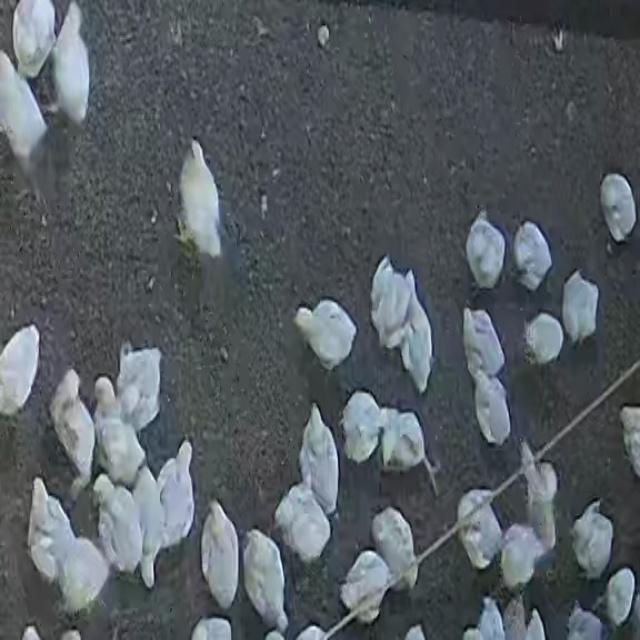chicken: (1, 51, 50, 204), (177, 136, 224, 258), (92, 473, 144, 579), (52, 4, 93, 126), (297, 294, 359, 371), (275, 484, 332, 564), (242, 527, 286, 629), (28, 477, 71, 581), (200, 501, 239, 613), (298, 406, 339, 512), (115, 342, 162, 434), (56, 369, 91, 490), (95, 406, 146, 489), (157, 442, 195, 552), (402, 265, 435, 389), (56, 538, 109, 615), (371, 507, 418, 592), (456, 488, 504, 571), (12, 1, 59, 84), (130, 462, 164, 576), (340, 549, 393, 622), (0, 320, 39, 417), (524, 450, 558, 546), (340, 389, 384, 463), (570, 501, 612, 578), (499, 523, 546, 591), (462, 306, 506, 378), (381, 408, 430, 472), (368, 263, 407, 342), (561, 270, 600, 348), (474, 371, 512, 448), (512, 223, 549, 289), (470, 218, 504, 284), (604, 175, 636, 244), (524, 313, 564, 367), (600, 568, 635, 628), (564, 602, 604, 640), (619, 406, 640, 476), (476, 598, 506, 640)
